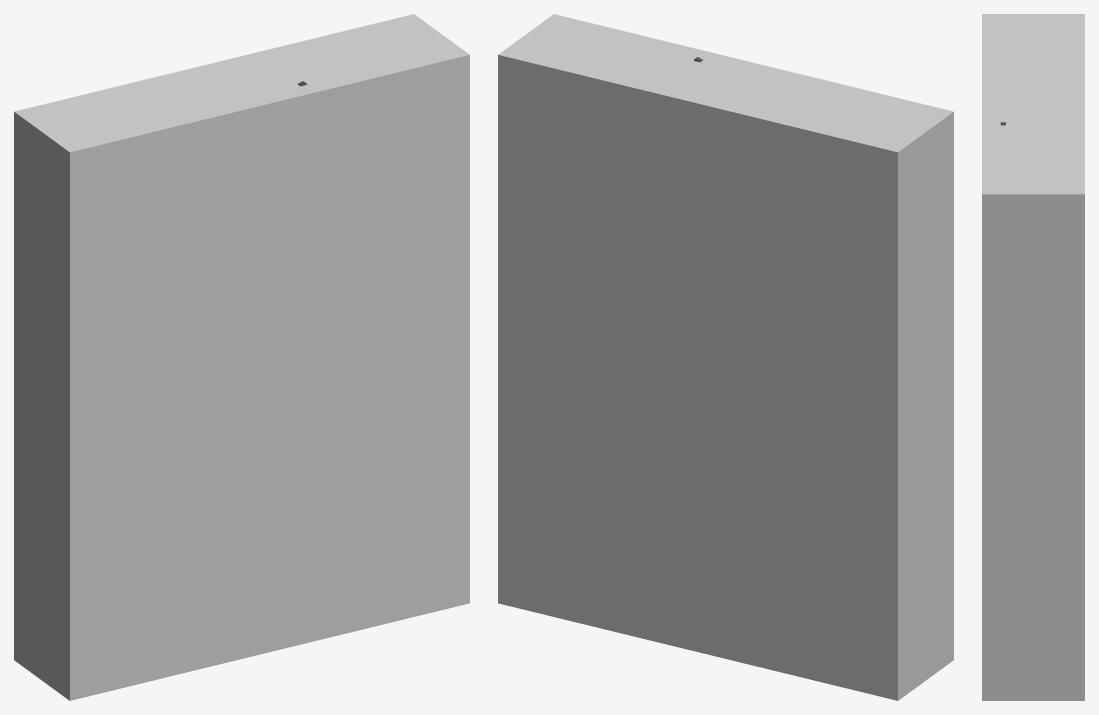
File: monumento1_low.glb
3 renders of one model, left to right at view 1: azimuth 30°, elevation 25°; view 2: azimuth 150°, elevation 25°; view 3: azimuth 270°, elevation 25°, orthographic. The views are drawn at different scales.
Parts seen in each view (by area): view 1: Cube.015; view 2: Cube.015; view 3: Cube.015.
Boxes of the visible parts, box(x1,y1,x2,y2) form: Cube.015: box(14, 14, 469, 700); Cube.015: box(498, 14, 953, 700); Cube.015: box(982, 14, 1084, 700).
Size of the model in its own units: 5.8 by 7.68 by 1.4.
Materials: 7 (2 with a texture image).
